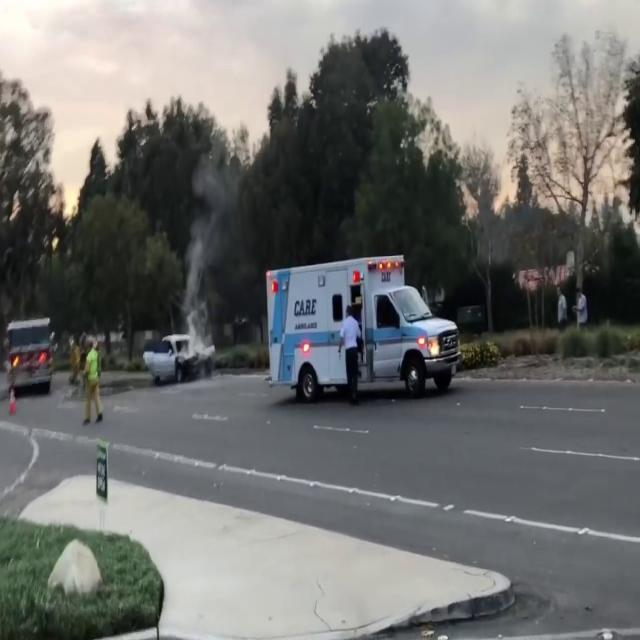Smoke: (180, 142, 242, 344)
